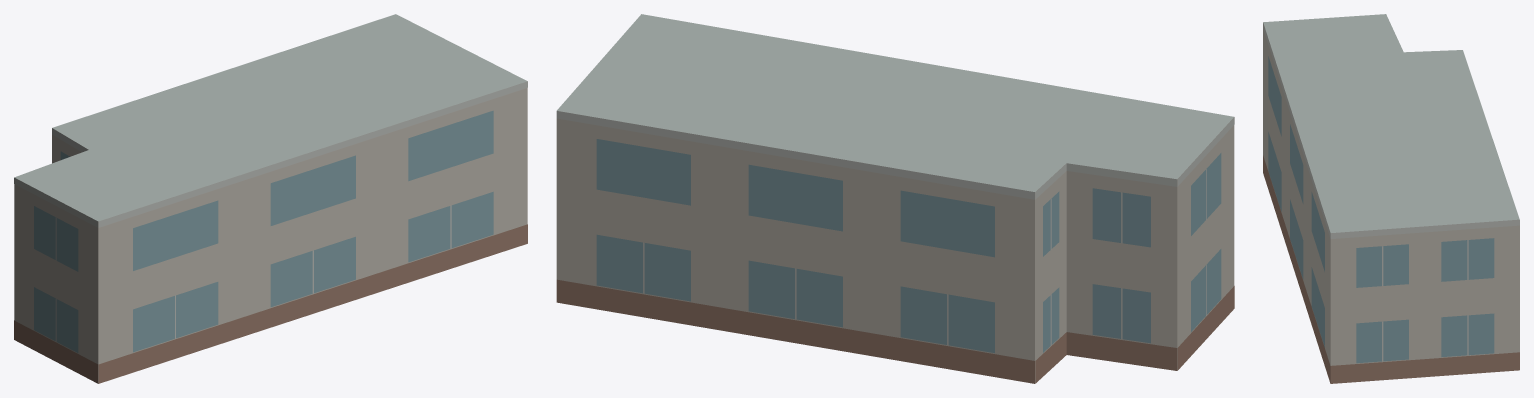
Rendered from survey-upis-32913208.glb.
The picture shows the model from 3 angles, left to right: view 1: azimuth 30°, elevation 25°; view 2: azimuth 150°, elevation 25°; view 3: azimuth 270°, elevation 25°; orthographic projection. The views are drawn at different scales.
Parts seen in each view (by area): view 1: survey-upis-32913208.tmp; view 2: survey-upis-32913208.tmp; view 3: survey-upis-32913208.tmp.
Part boxes in pixels (bbox=[...]): survey-upis-32913208.tmp: bbox=[14, 14, 527, 383]; survey-upis-32913208.tmp: bbox=[556, 14, 1234, 383]; survey-upis-32913208.tmp: bbox=[1263, 14, 1519, 383].
Size of the model in its own units: 19.03 by 6.1 by 9.43.
